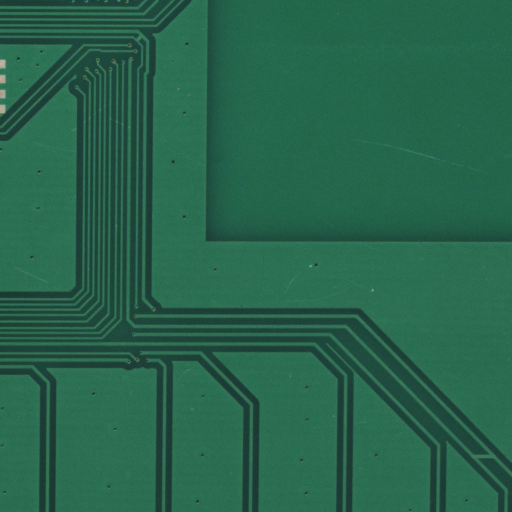Short: (484, 456, 507, 465), (139, 38, 147, 47)
